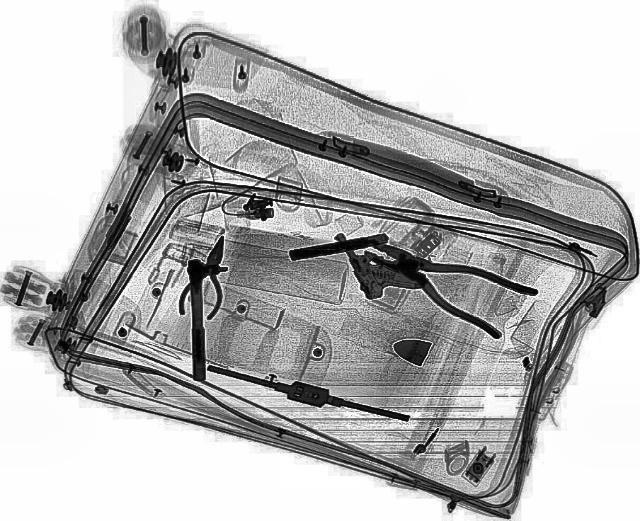Gun: (331, 218, 425, 302), (287, 231, 391, 261)
Pliers: (350, 218, 540, 340), (173, 230, 244, 320)
